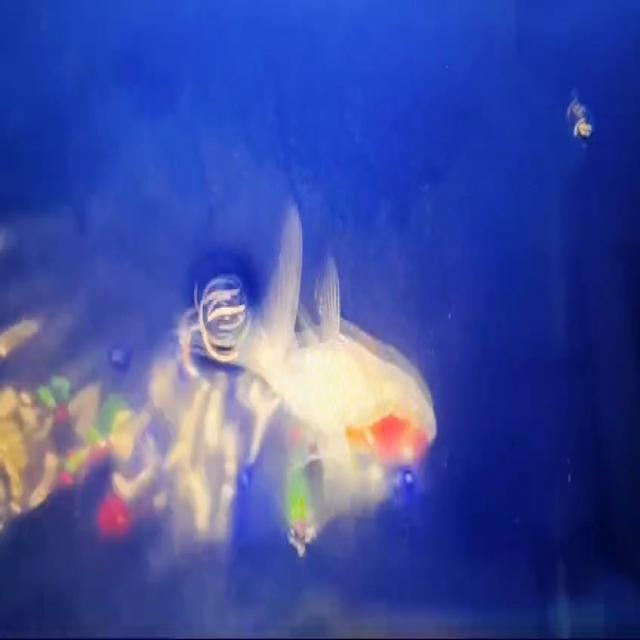fish: (220, 202, 437, 495)
